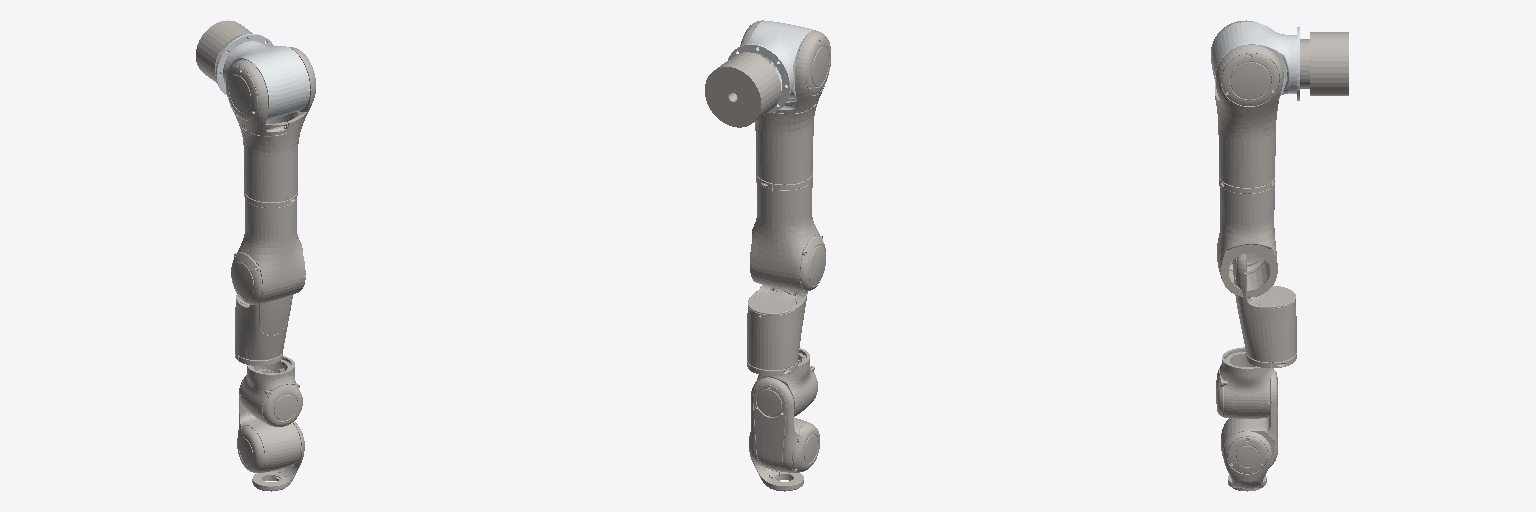
The robot description file, URDF, robot "robot_arm_description":
<?xml version="1.0" encoding="utf-8"?>
<!-- This URDF was automatically created by SolidWorks to URDF Exporter! Originally created by Stephen Brawner (brawner@gmail.com) 
     Commit Version: 1.6.0-4-g7f85cfe  Build Version: 1.6.7995.38578
     For more information, please see http://wiki.ros.org/sw_urdf_exporter -->
<robot
  name="robot_arm_description">
  <link
    name="base_link">
    <inertial>
      <origin
        xyz="-1.33573707650214E-16 0.0347677089980855 -2.22044604925031E-16"
        rpy="0 0 0" />
      <mass
        value="5.57190761890423" />
      <inertia
        ixx="0.00701497312639729"
        ixy="-4.75111315794136E-18"
        ixz="1.4137417540953E-33"
        iyy="0.00823393359792375"
        iyz="-3.54148024378364E-19"
        izz="0.0070149731263973" />
    </inertial>
    <visual>
      <origin
        xyz="0 0 0"
        rpy="0 0 0" />
      <geometry>
        <mesh
          filename="package://robot_arm_description/meshes/arm_right.STL" />
      </geometry>
      <material
        name="">
        <color
          rgba="0.776470588235294 0.756862745098039 0.737254901960784 1" />
      </material>
    </visual>
    <collision>
      <origin
        xyz="0 0 0"
        rpy="0 0 0" />
      <geometry>
        <mesh
          filename="package://robot_arm_description/meshes/arm_right.STL" />
      </geometry>
    </collision>
  </link>
  <link
    name="rlink1">
    <inertial>
      <origin
        xyz="-2.08280310354247E-06 0.00161949059941523 0.0627032006634779"
        rpy="0 0 0" />
      <mass
        value="0.592972668720151" />
      <inertia
        ixx="0.00188157196552088"
        ixy="-2.40135238961756E-08"
        ixz="-5.75831914606908E-08"
        iyy="0.00231576080757162"
        iyz="-0.00010018155567541"
        izz="0.00157852292049741" />
    </inertial>
    <visual>
      <origin
        xyz="0 0 0"
        rpy="0 0 0" />
      <geometry>
        <mesh
          filename="package://robot_arm_description/meshes/rlink1.STL" />
      </geometry>
      <material
        name="">
        <color
          rgba="0.898039215686275 0.917647058823529 0.929411764705882 1" />
      </material>
    </visual>
    <collision>
      <origin
        xyz="0 0 0"
        rpy="0 0 0" />
      <geometry>
        <mesh
          filename="package://robot_arm_description/meshes/rlink1.STL" />
      </geometry>
    </collision>
  </link>
  <joint
    name="rjoint1"
    type="revolute">
    <origin
      xyz="0 -0.015 0"
      rpy="1.5708 1.5708 0" />
    <parent
      link="base_link" />
    <child
      link="rlink1" />
    <axis
      xyz="0 0 1" />
    <limit
      lower="-3.14"
      upper="3.14"
      effort="300"
      velocity="1" />
  </joint>
  <link
    name="rlink2">
    <inertial>
      <origin
        xyz="-2.4763208496148E-05 -0.0643600565059892 5.32515726273976E-06"
        rpy="0 0 0" />
      <mass
        value="3.42156130130546" />
      <inertia
        ixx="0.0152922453131272"
        ixy="-3.7076802116328E-06"
        ixz="3.83973822033654E-08"
        iyy="0.00699323097176174"
        iyz="-0.00291573896285968"
        izz="0.0160952128008031" />
    </inertial>
    <visual>
      <origin
        xyz="0 0 0"
        rpy="0 0 0" />
      <geometry>
        <mesh
          filename="package://robot_arm_description/meshes/rlink2.STL" />
      </geometry>
      <material
        name="">
        <color
          rgba="0.776470588235294 0.756862745098039 0.737254901960784 1" />
      </material>
    </visual>
    <collision>
      <origin
        xyz="0 0 0"
        rpy="0 0 0" />
      <geometry>
        <mesh
          filename="package://robot_arm_description/meshes/rlink2.STL" />
      </geometry>
    </collision>
  </link>
  <joint
    name="rjoint2"
    type="revolute">
    <origin
      xyz="0 0 0.085"
      rpy="-3.1416 1.4835 -1.5708" />
    <parent
      link="rlink1" />
    <child
      link="rlink2" />
    <axis
      xyz="0 0 1" />
    <limit
      lower="-3.14"
      upper="0.1"
      effort="200"
      velocity="1" />
  </joint>
  <link
    name="rlink3">
    <inertial>
      <origin
        xyz="0.0028373 -0.00024791 0.097193"
        rpy="0 0 0" />
      <mass
        value="2.3163" />
      <inertia
        ixx="0.0095394"
        ixy="-5.0993E-05"
        ixz="0.0001585"
        iyy="0.0089606"
        iyz="-1.3845E-05"
        izz="0.0046437" />
    </inertial>
    <visual>
      <origin
        xyz="0 0 0"
        rpy="0 0 0" />
      <geometry>
        <mesh
          filename="package://robot_arm_description/meshes/rlink3.STL" />
      </geometry>
      <material
        name="">
        <color
          rgba="0.77647 0.75686 0.73725 1" />
      </material>
    </visual>
    <collision>
      <origin
        xyz="0 0 0"
        rpy="0 0 0" />
      <geometry>
        <mesh
          filename="package://robot_arm_description/meshes/rlink3.STL" />
      </geometry>
    </collision>
  </link>
  <joint
    name="rjoint3"
    type="revolute">
    <origin
      xyz="0 -0.225 0"
      rpy="1.5708 -0.087266 0" />
    <parent
      link="rlink2" />
    <child
      link="rlink3" />
    <axis
      xyz="0 0 1" />
    <limit
      lower="-3.14"
      upper="3.14"
      effort="200"
      velocity="1" />
  </joint>
  <link
    name="rlink4">
    <inertial>
      <origin
        xyz="0.000800785511634319 5.13879548796371E-06 0.0027757791594038"
        rpy="0 0 0" />
      <mass
        value="2.1969115645596" />
      <inertia
        ixx="0.00317428178212875"
        ixy="-2.32239109105445E-07"
        ixz="-0.00158267658114894"
        iyy="0.00775114084358153"
        iyz="-1.67181776688909E-07"
        izz="0.00820069758730051" />
    </inertial>
    <visual>
      <origin
        xyz="0 0 0"
        rpy="0 0 0" />
      <geometry>
        <mesh
          filename="package://robot_arm_description/meshes/rlink4.STL" />
      </geometry>
      <material
        name="">
        <color
          rgba="0.776470588235294 0.756862745098039 0.737254901960784 1" />
      </material>
    </visual>
    <collision>
      <origin
        xyz="0 0 0"
        rpy="0 0 0" />
      <geometry>
        <mesh
          filename="package://robot_arm_description/meshes/rlink4.STL" />
      </geometry>
    </collision>
  </link>
  <joint
    name="rjoint4"
    type="revolute">
    <origin
      xyz="0 0 0.145"
      rpy="3.1543 1.5708 0" />
    <parent
      link="rlink3" />
    <child
      link="rlink4" />
    <axis
      xyz="0 0 1" />
    <limit
      lower="-1.4"
      upper="1.4"
      effort="200"
      velocity="1" />
  </joint>
  <link
    name="rlink5">
    <inertial>
      <origin
        xyz="0.0026605 -0.00023454 0.043958"
        rpy="0 0 0" />
      <mass
        value="1.0032" />
      <inertia
        ixx="0.0021766"
        ixy="-2.3531E-05"
        ixz="-6.2065E-05"
        iyy="0.0019098"
        iyz="5.3643E-06"
        izz="0.0015652" />
    </inertial>
    <visual>
      <origin
        xyz="0 0 0"
        rpy="0 0 0" />
      <geometry>
        <mesh
          filename="package://robot_arm_description/meshes/rlink5.STL" />
      </geometry>
      <material
        name="">
        <color
          rgba="0.77647 0.75686 0.73725 1" />
      </material>
    </visual>
    <collision>
      <origin
        xyz="0 0 0"
        rpy="0 0 0" />
      <geometry>
        <mesh
          filename="package://robot_arm_description/meshes/rlink5.STL" />
      </geometry>
    </collision>
  </link>
  <joint
    name="rjoint5"
    type="revolute">
    <origin
      xyz="-0.1865 0 0"
      rpy="1.5708 1.4835 -1.5708" />
    <parent
      link="rlink4" />
    <child
      link="rlink5" />
    <axis
      xyz="0 0 1" />
    <limit
      lower="-3.14"
      upper="3.14"
      effort="100"
      velocity="1" />
  </joint>
  <link
    name="rlink6">
    <inertial>
      <origin
        xyz="0.00216965532390773 0.069464602709415 0.0215302951828984"
        rpy="0 0 0" />
      <mass
        value="1.47510575801377" />
      <inertia
        ixx="0.00404335825498938"
        ixy="-9.87105376458417E-05"
        ixz="6.26738467485883E-05"
        iyy="0.00197198282862732"
        iyz="0.000723539882508138"
        izz="0.00371776982636217" />
    </inertial>
    <visual>
      <origin
        xyz="0 0 0"
        rpy="0 0 0" />
      <geometry>
        <mesh
          filename="package://robot_arm_description/meshes/rlink6.STL" />
      </geometry>
      <material
        name="">
        <color
          rgba="0.776470588235294 0.756862745098039 0.737254901960784 1" />
      </material>
    </visual>
    <collision>
      <origin
        xyz="0 0 0"
        rpy="0 0 0" />
      <geometry>
        <mesh
          filename="package://robot_arm_description/meshes/rlink6.STL" />
      </geometry>
    </collision>
  </link>
  <joint
    name="rjoint6"
    type="revolute">
    <origin
      xyz="0 0 0.0595"
      rpy="1.5708 0 1.4835" />
    <parent
      link="rlink5" />
    <child
      link="rlink6" />
    <axis
      xyz="0 0 1" />
    <limit
      lower="-1.4"
      upper="1.4"
      effort="100"
      velocity="1" />
  </joint>
  <link
    name="rlink7">
    <inertial>
      <origin
        xyz="0.035858 9.6138E-08 0.026589"
        rpy="0 0 0" />
      <mass
        value="0.56025" />
      <inertia
        ixx="0.00051643"
        ixy="3.0284E-09"
        ixz="0.00029396"
        iyy="0.00091675"
        iyz="-3.6579E-09"
        izz="0.00085526" />
    </inertial>
    <visual>
      <origin
        xyz="0 0 0"
        rpy="0 0 0" />
      <geometry>
        <mesh
          filename="package://robot_arm_description/meshes/rlink7.STL" />
      </geometry>
      <material
        name="">
        <color
          rgba="0.77647 0.75686 0.73725 1" />
      </material>
    </visual>
    <collision>
      <origin
        xyz="0 0 0"
        rpy="0 0 0" />
      <geometry>
        <mesh
          filename="package://robot_arm_description/meshes/rlink7.STL" />
      </geometry>
    </collision>
  </link>
  <joint
    name="rjoint7"
    type="revolute">
    <origin
      xyz="0 0.095 0"
      rpy="1.5708 0 1.5708" />
    <parent
      link="rlink6" />
    <child
      link="rlink7" />
    <axis
      xyz="0 0 1" />
    <limit
      lower="-1.65"
      upper="0.65"
      effort="100"
      velocity="1" />
  </joint>
  <link
    name="ree_link">
    <inertial>
      <origin
        xyz="0.0028149 0.032176 -0.022025"
        rpy="0 0 0" />
      <mass
        value="0.018586" />
      <inertia
        ixx="3.1878E-06"
        ixy="-5.0637E-08"
        ixz="1.2012E-07"
        iyy="2.614E-06"
        iyz="1.3724E-06"
        izz="2.0349E-06" />
    </inertial>
  </link>
  <joint
    name="rjoint8"
    type="fixed">
    <origin
      xyz="0.0765 0 0.00036885"
      rpy="0.0 0.0 0.0" />
    <parent
      link="rlink7" />
    <child
      link="ree_link" />
    <axis
      xyz="0 0 0" />
  </joint>
</robot>

--- What the picture shows (computed from the rendered views, not written in the file) ---
Views: 3 orthographic renders of the robot side by side, from view 1: azimuth 30°, elevation 25°; view 2: azimuth 150°, elevation 25°; view 3: azimuth 270°, elevation 25°.
Robot: robot_arm_description — 9 links, 8 joints (7 revolute, 1 fixed); root link base_link; default pose: every joint at zero.
Visible links, largest first — view 1: rlink2, rlink3, rlink1, rlink4, rlink5, rlink6, base_link, rlink7; view 2: rlink3, rlink2, rlink6, rlink4, base_link, rlink1, rlink5, rlink7; view 3: rlink2, rlink3, rlink4, rlink5, base_link, rlink1, rlink7, rlink6.
Boxes of the visible links, bbox=[...] form: rlink2: bbox=[226, 47, 315, 201]; rlink3: bbox=[231, 192, 305, 304]; rlink1: bbox=[215, 34, 309, 119]; rlink4: bbox=[235, 294, 292, 365]; rlink5: bbox=[240, 356, 302, 426]; rlink6: bbox=[237, 376, 301, 472]; base_link: bbox=[196, 20, 252, 82]; rlink7: bbox=[252, 422, 304, 491]; rlink3: bbox=[750, 174, 825, 291]; rlink2: bbox=[740, 20, 830, 184]; rlink6: bbox=[751, 377, 819, 472]; rlink4: bbox=[747, 284, 807, 375]; base_link: bbox=[705, 52, 780, 127]; rlink1: bbox=[728, 21, 813, 112]; rlink5: bbox=[755, 348, 817, 416]; rlink7: bbox=[749, 432, 803, 491]; rlink2: bbox=[1211, 20, 1283, 187]; rlink3: bbox=[1217, 177, 1277, 297]; rlink4: bbox=[1233, 254, 1296, 367]; rlink5: bbox=[1216, 347, 1273, 418]; base_link: bbox=[1300, 32, 1348, 95]; rlink1: bbox=[1211, 22, 1299, 100]; rlink7: bbox=[1223, 431, 1271, 491]; rlink6: bbox=[1221, 370, 1277, 467].
Size in the robot's own frame: 0.1407 by 0.2355 by 0.85 metres.
Meshes: 8 distinct files referenced, 8 mesh visuals loaded (8 binary STL).
